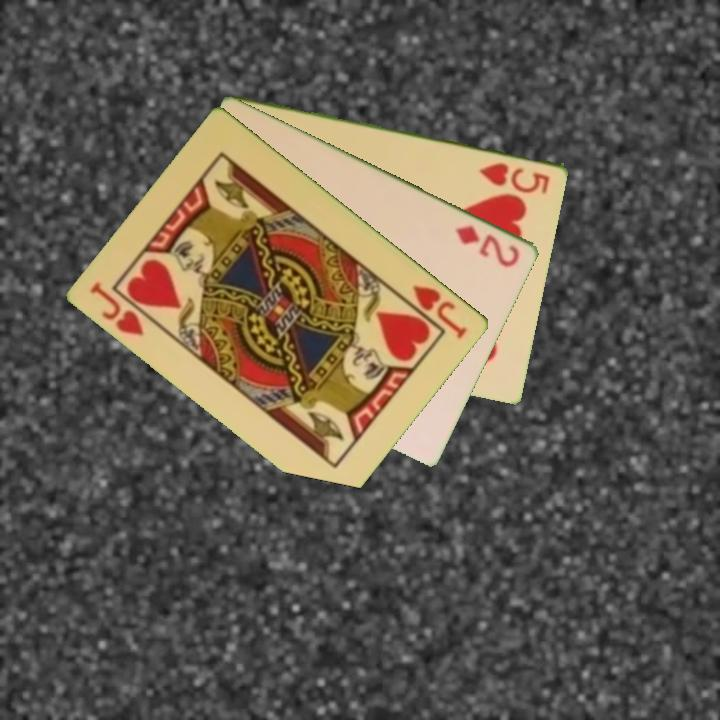2d: (451, 221, 523, 271)
5h: (477, 158, 553, 196)
Jh: (396, 281, 471, 342), (87, 277, 148, 339)
